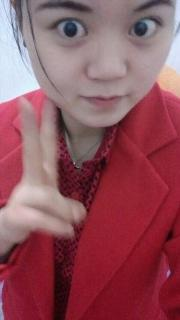long sleeve top: (0, 86, 180, 320)
